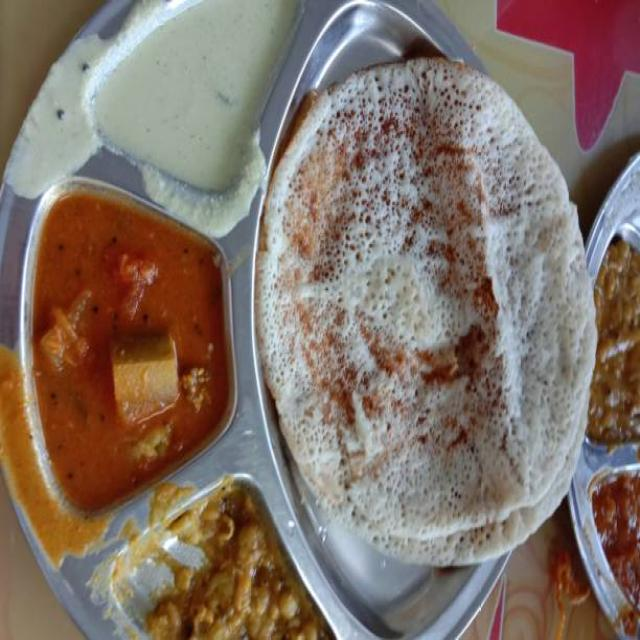AAPAM: (256, 63, 595, 566)
SAMBAR: (31, 190, 230, 505)
WHITE CHUTNEY: (94, 0, 295, 182)
